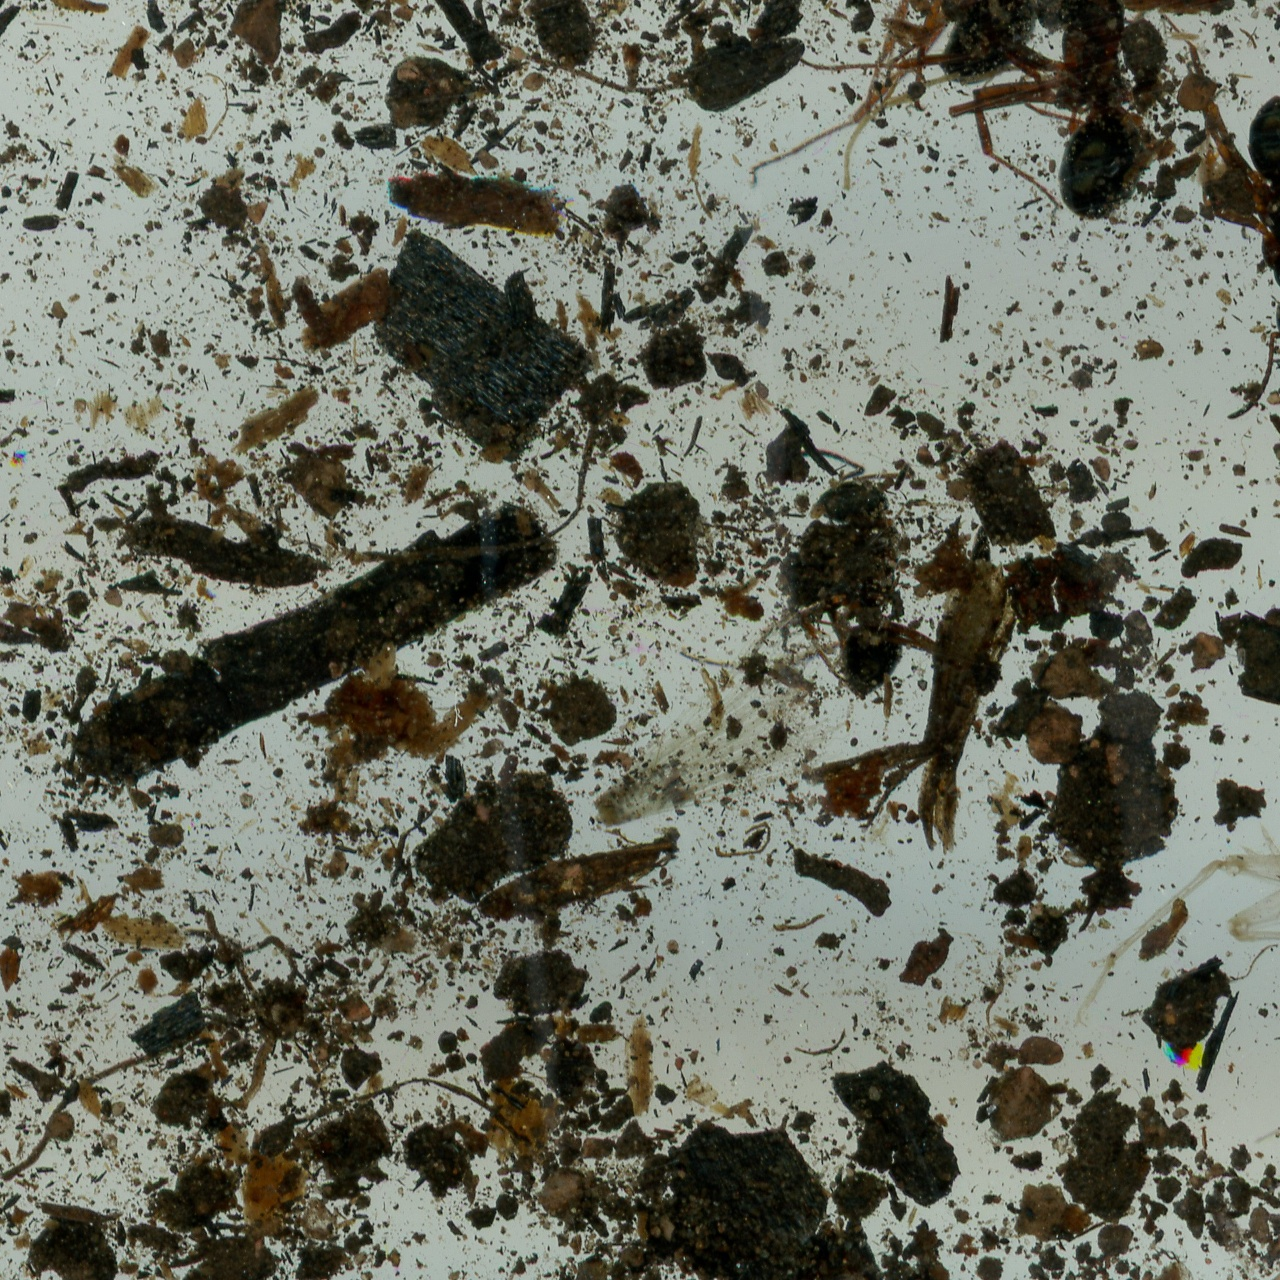arthropod: (1072, 804, 1280, 1153), (774, 447, 949, 701), (1196, 1181, 1263, 1280), (958, 774, 1033, 848), (0, 588, 46, 662)
